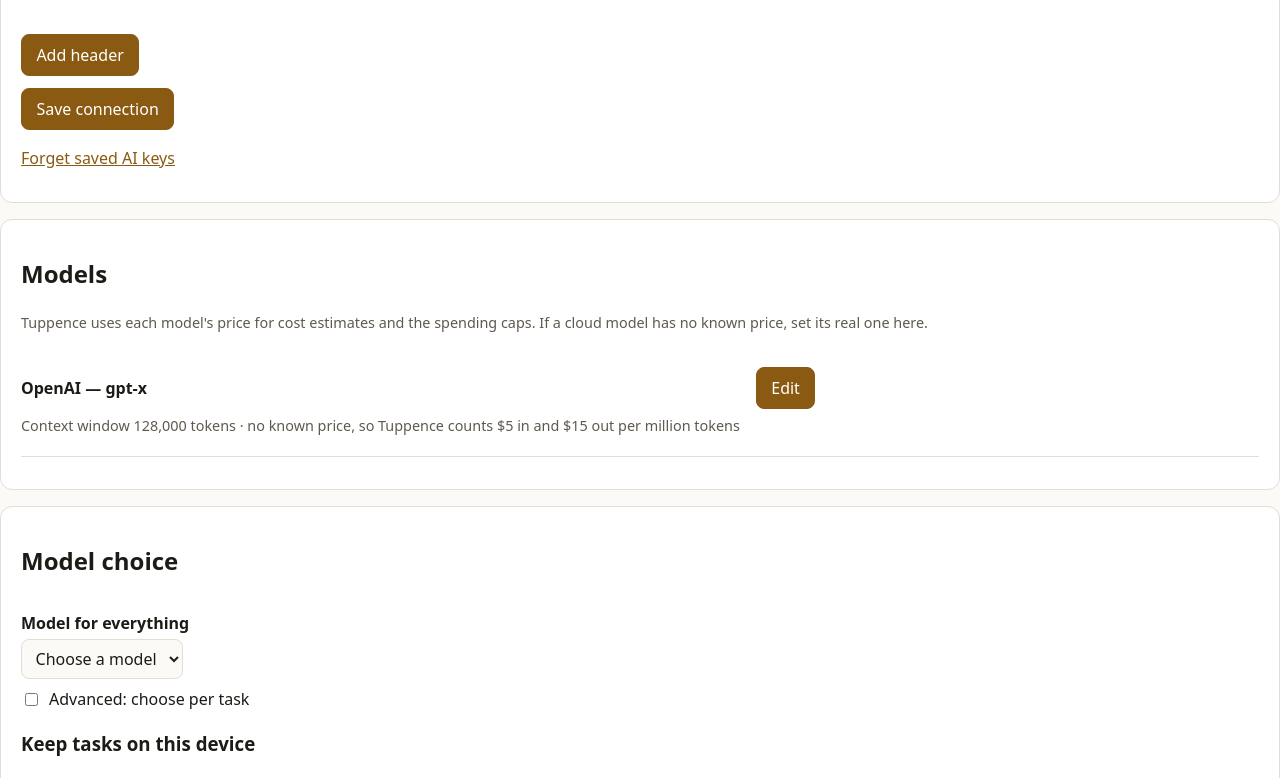
Scenario: edits a model's price and context window with its version
The image size is (1280, 778).
(page scrolled)
Expected: the text "no known price, so Tuppence counts $5 in and $15 out" is shown, [21,416,740,435]
Click the button with aria-label "Edit gpt-x" at (786, 388), box [756,367,815,409]
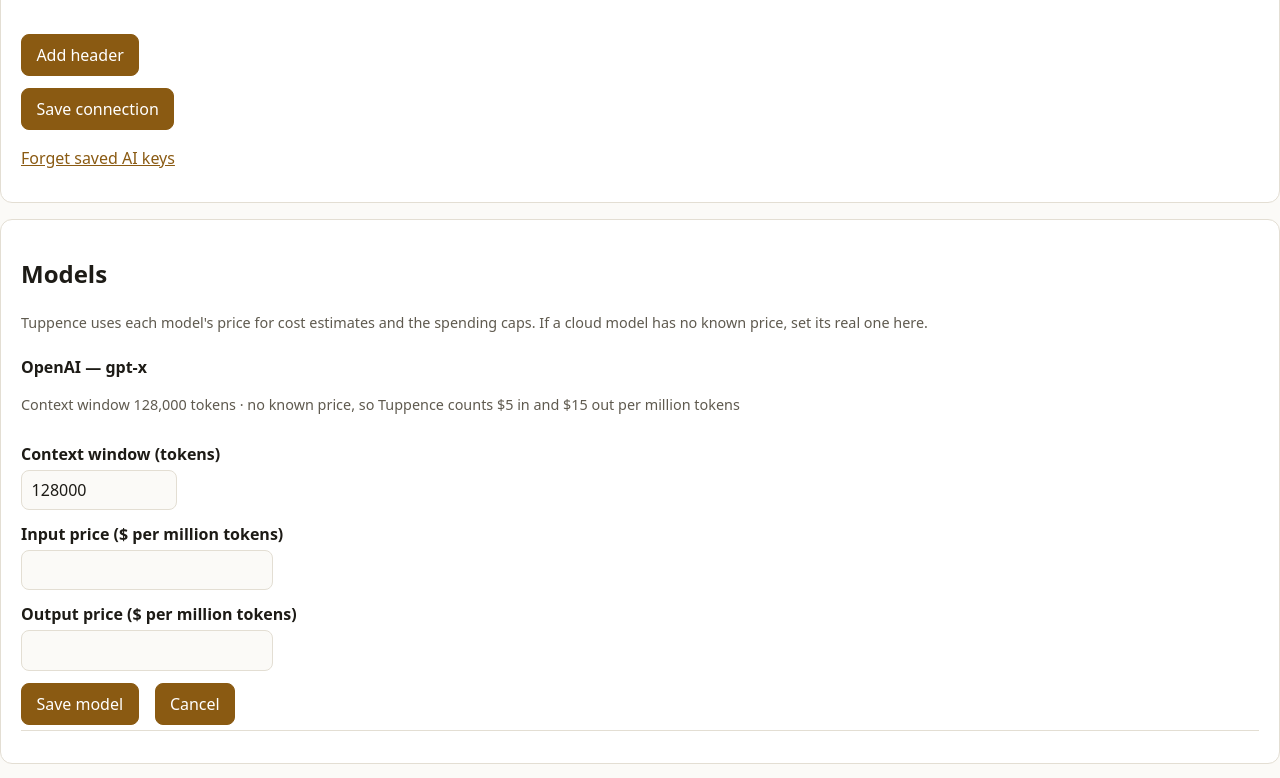
Type "0.4" into the number field labelled "Input price ($ per million tokens)" at (147, 570), box [21,550,273,590]
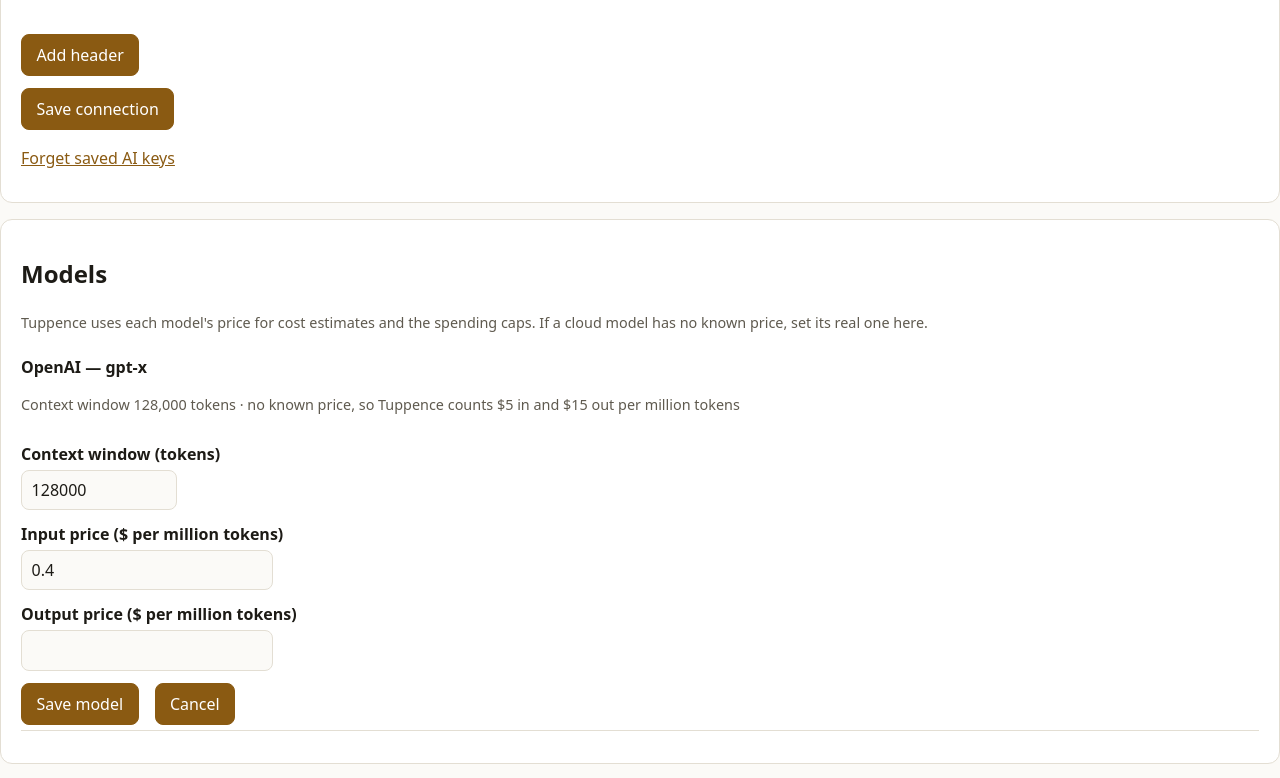
Type "1.6" into the number field labelled "Output price ($ per million tokens)" at (147, 651), box [21,630,273,671]
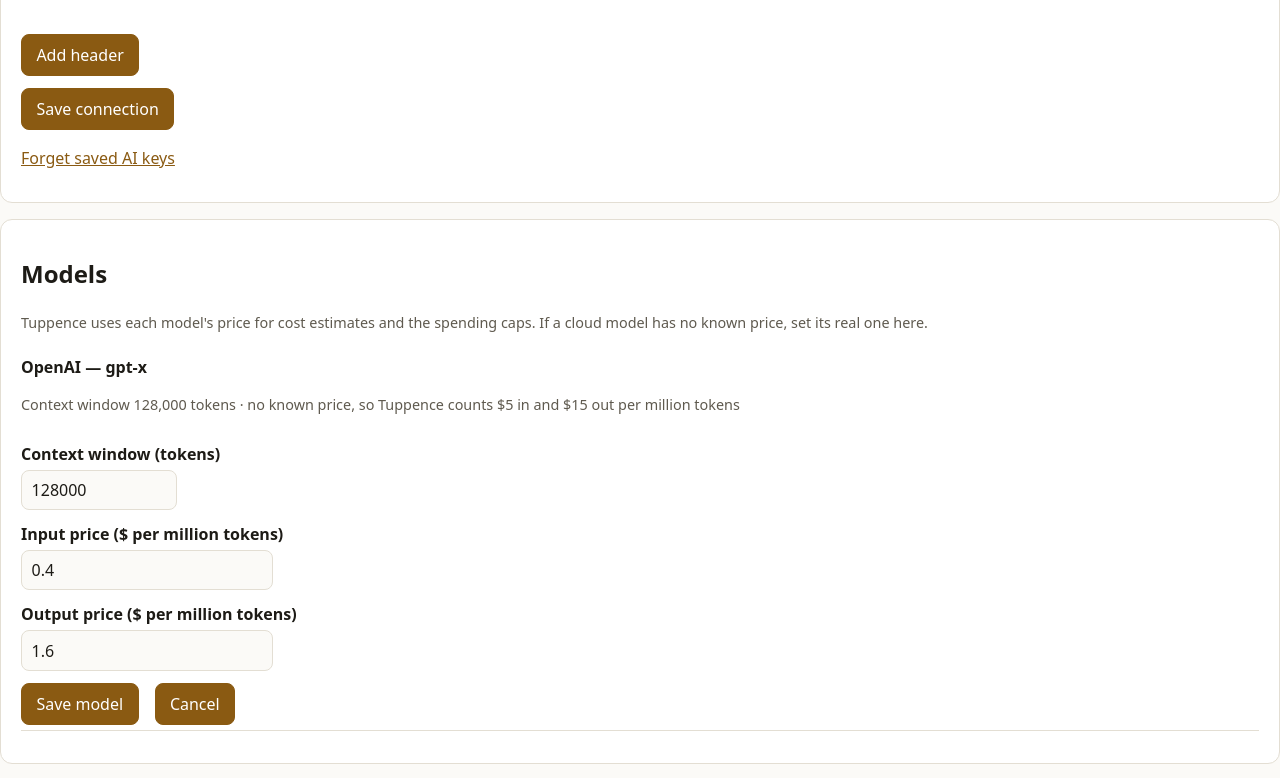
Replace the text in the number field labelled "Context window (tokens)" with "64000" at (99, 490), box [21,470,177,510]
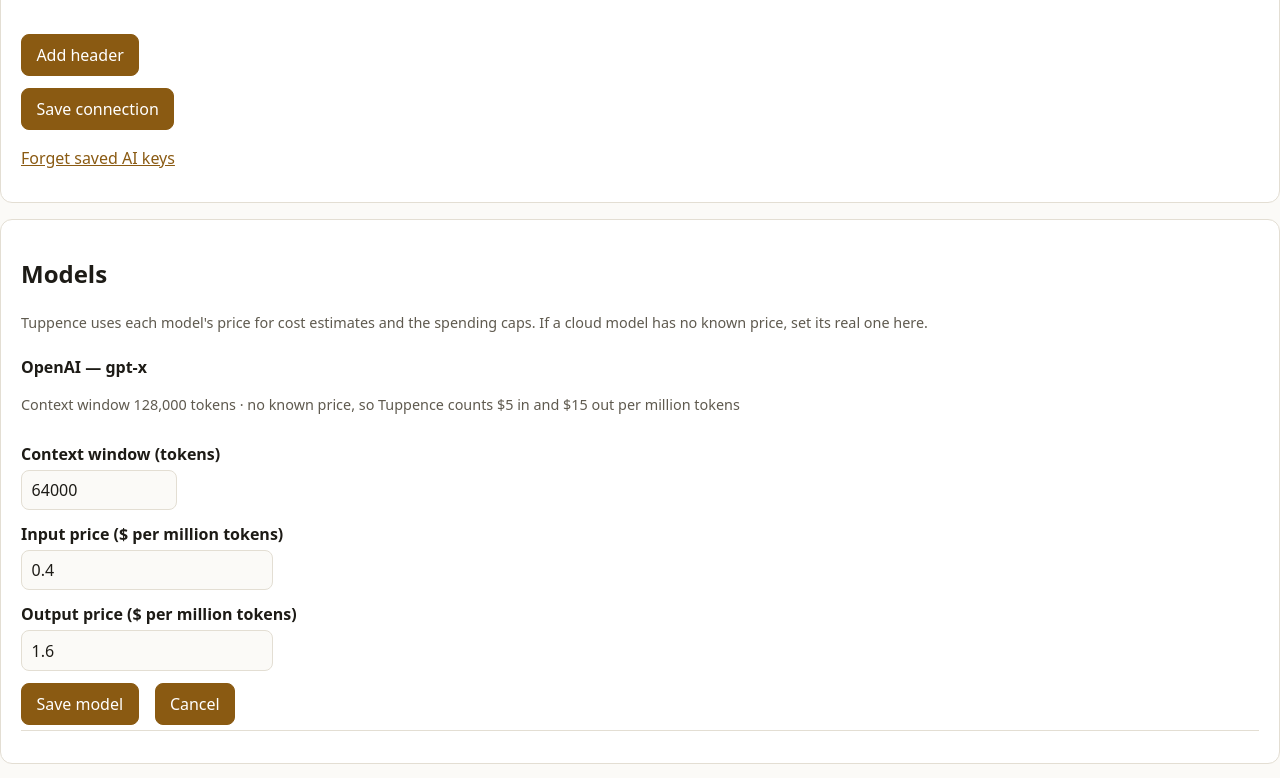
Click the button "Save model" at (80, 704), box [21,683,138,725]
(page scrolled)
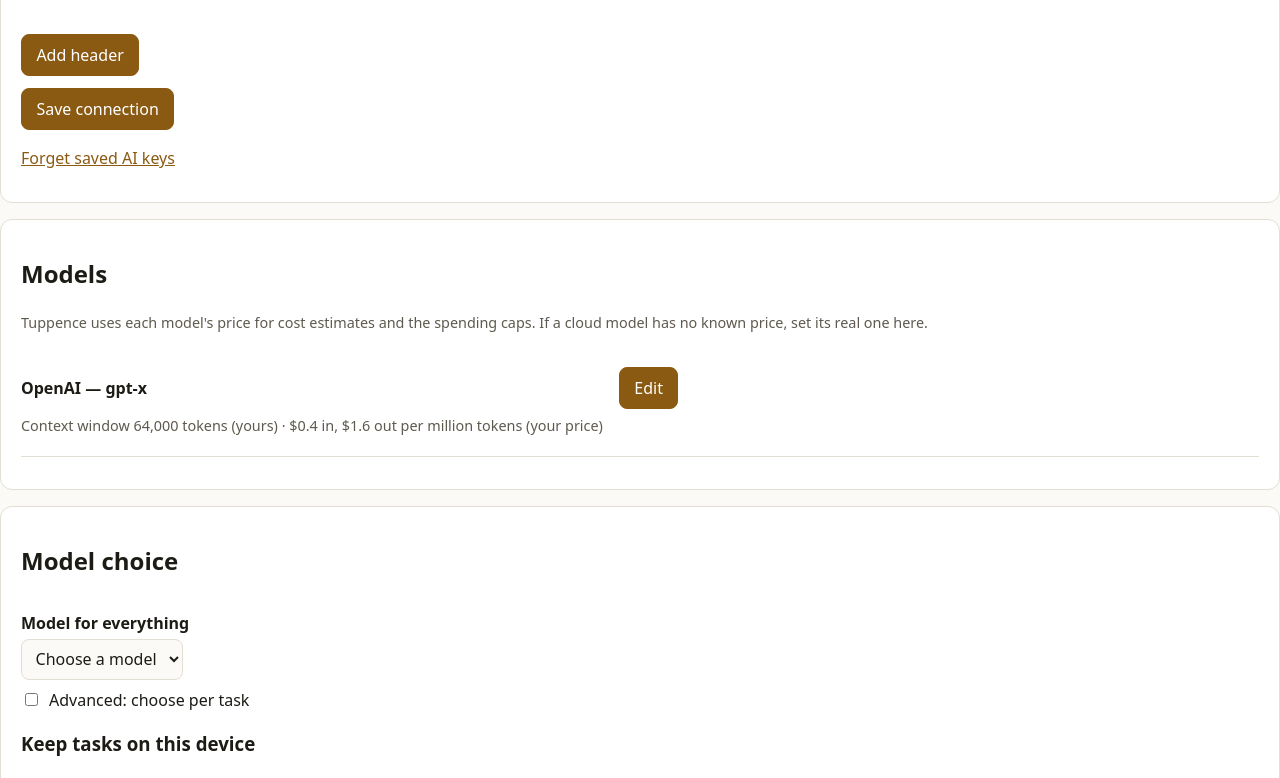
Now the text "$0.4 in, $1.6 out per million tokens (your price)" is shown, box [21,416,603,435]
